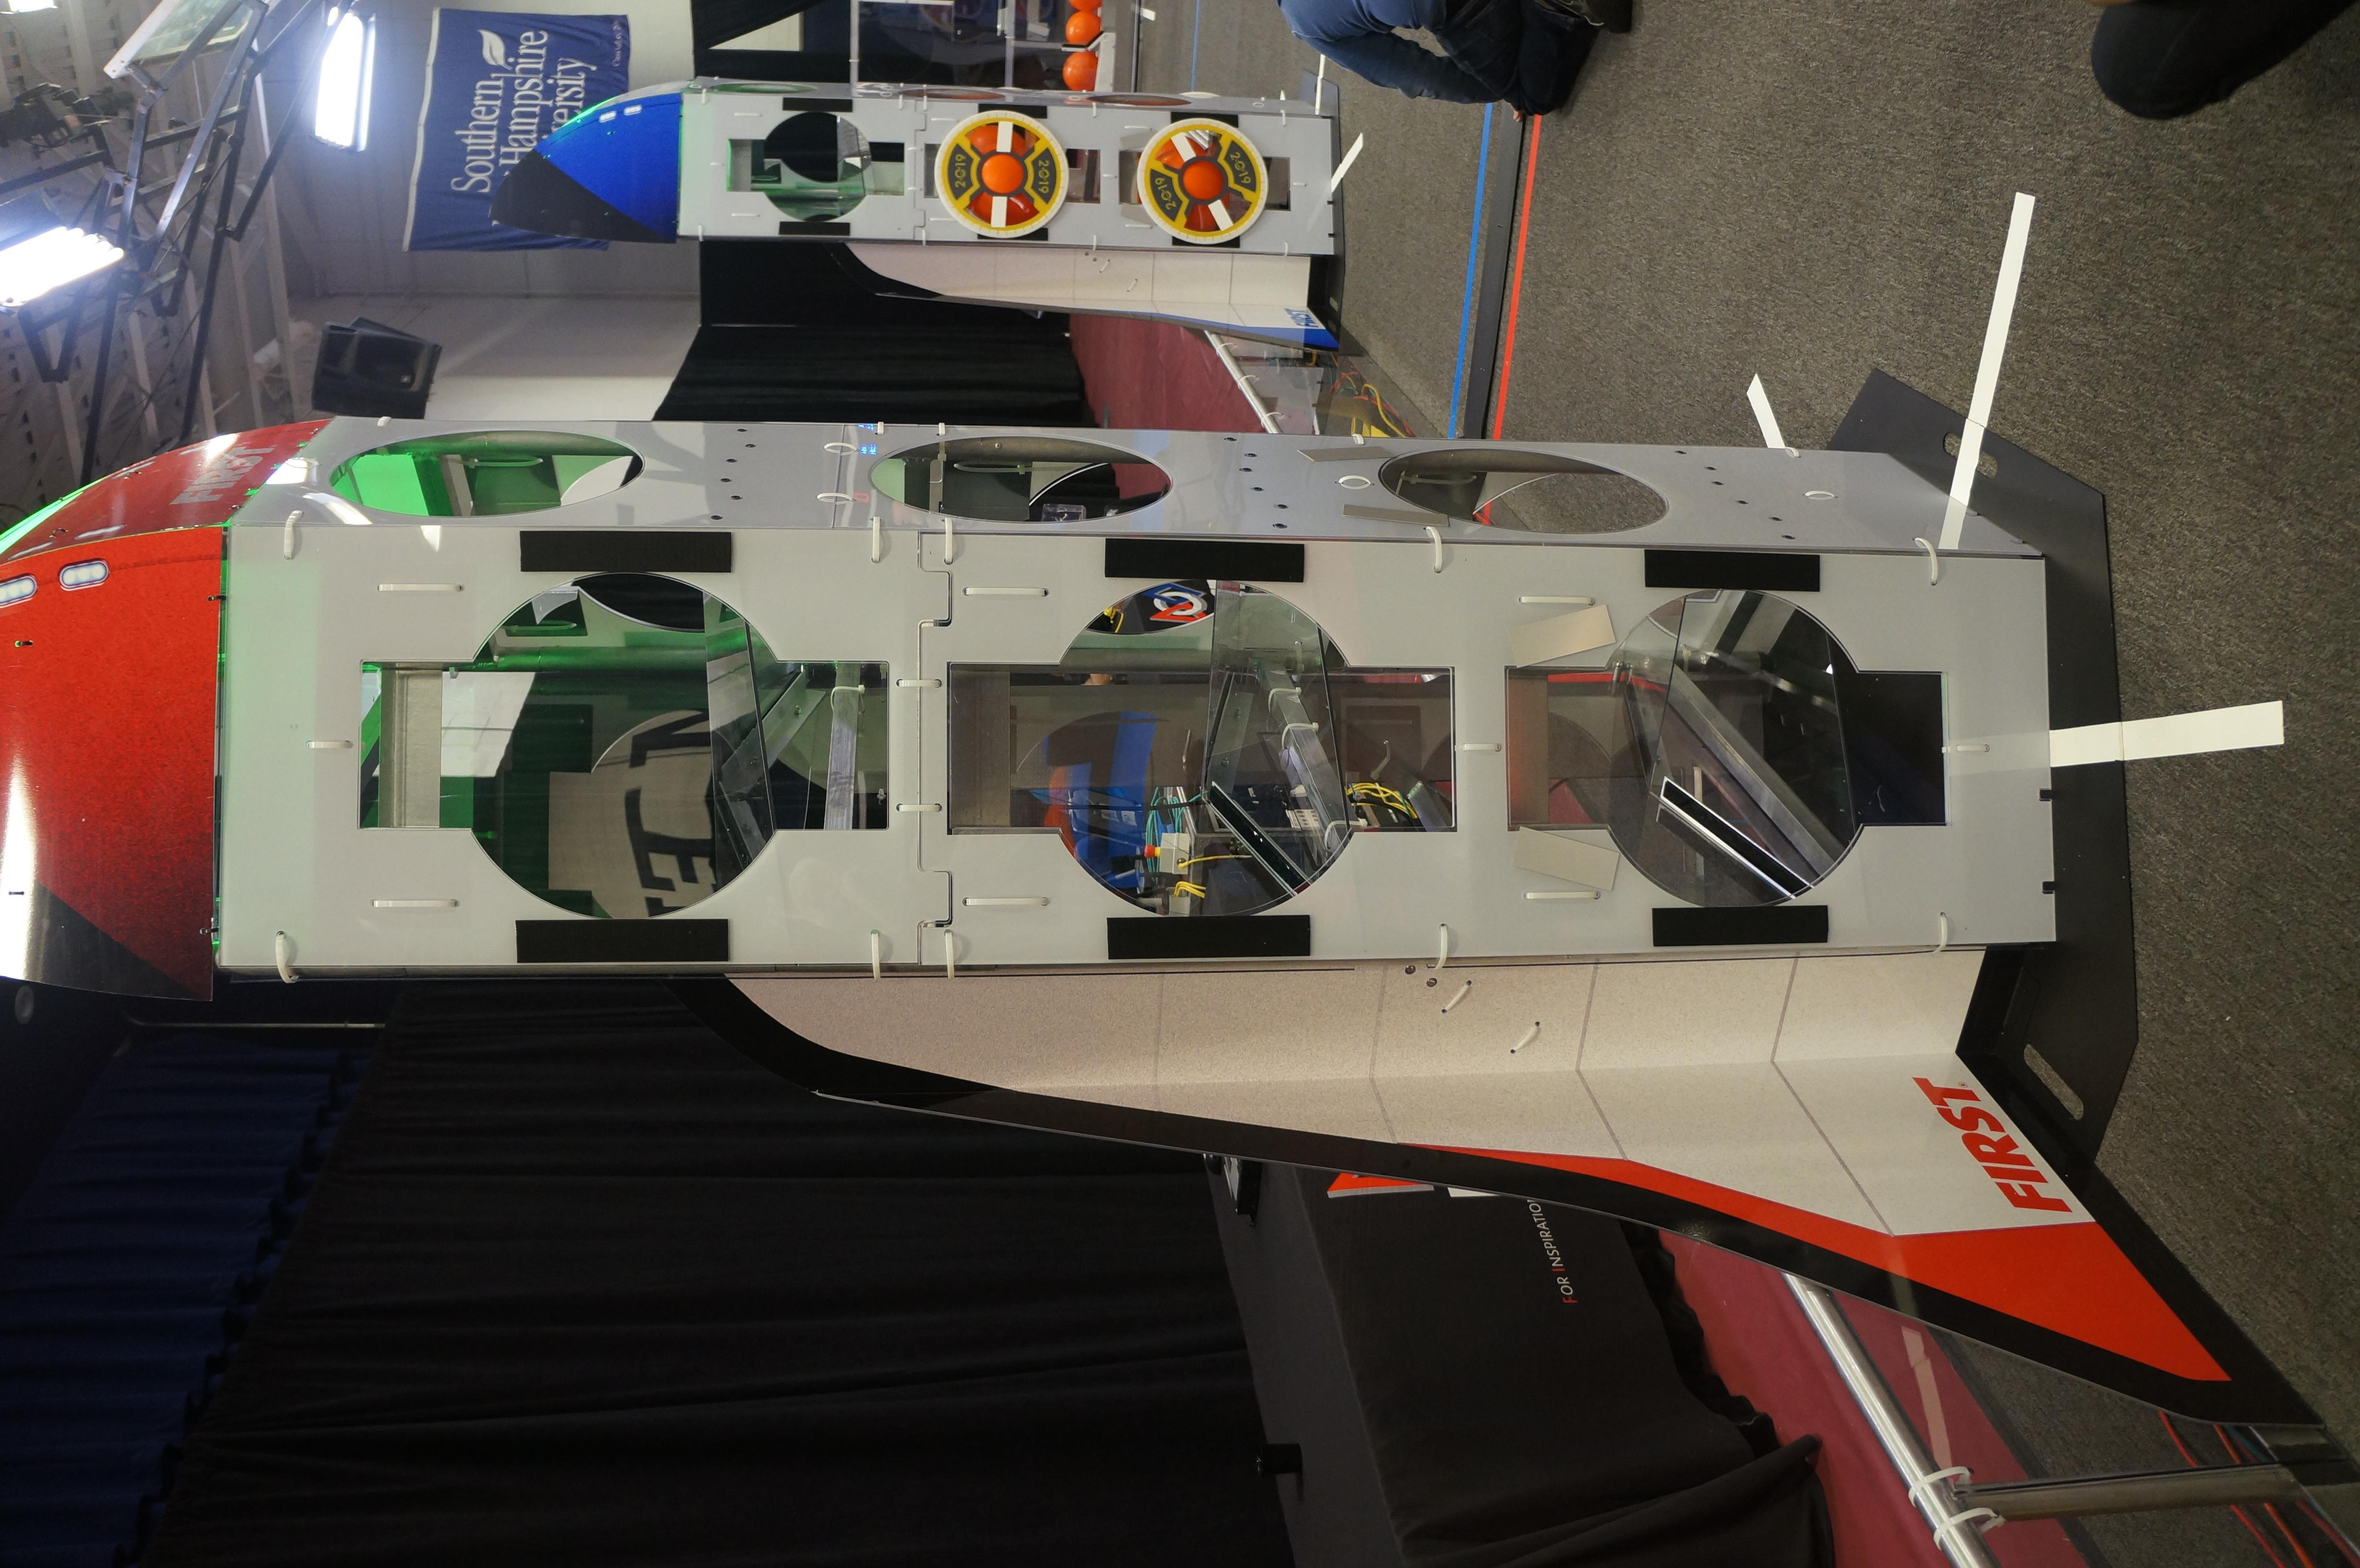Ball: (1155, 145, 1254, 227), (957, 126, 1037, 220), (1060, 45, 1102, 91), (1062, 12, 1100, 45)
Hatch: (934, 107, 1071, 236), (1134, 121, 1265, 247)
Tape: (1501, 824, 1622, 896), (1501, 600, 1622, 670), (1296, 437, 1396, 467), (1347, 507, 1450, 527)
